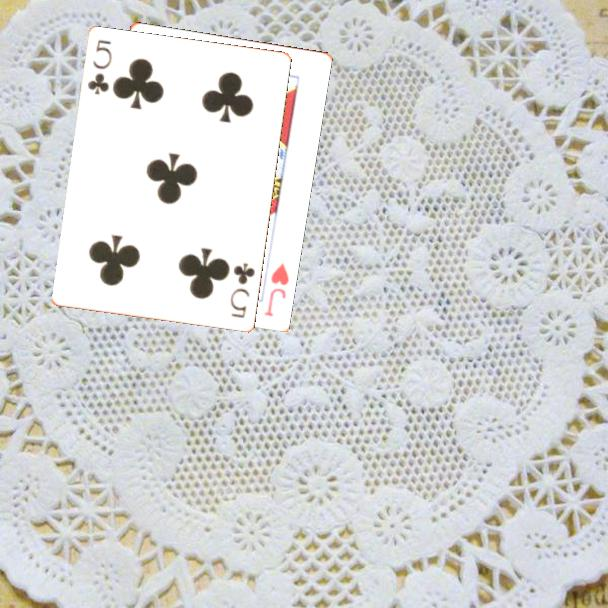c05: (227, 260, 258, 321), (84, 37, 115, 98)
h11: (261, 259, 291, 319)
